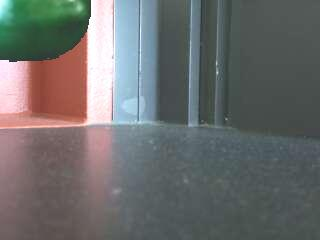Lime: (0, 0, 93, 63)
